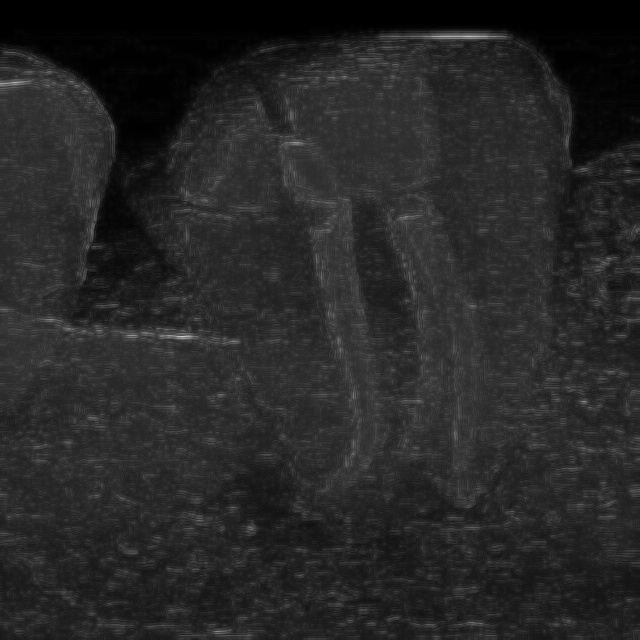Class 1- complete endodontic treatment: (74, 32, 626, 554)
